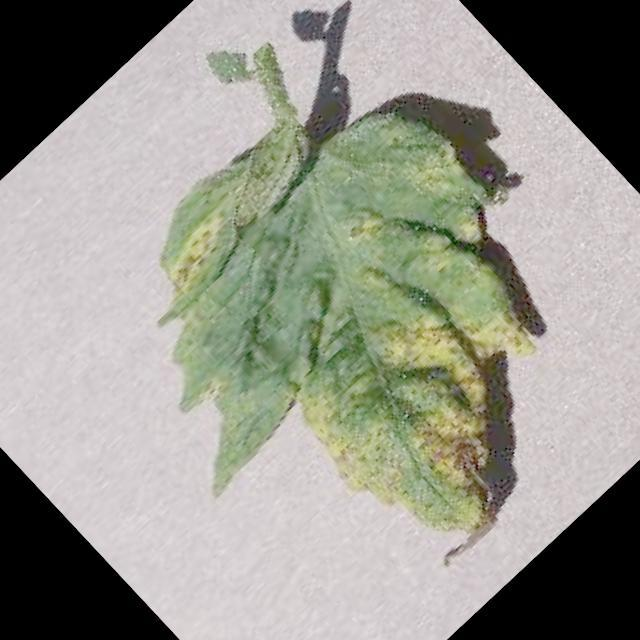Tomato Septoria spot leaf: (51, 40, 640, 640)
